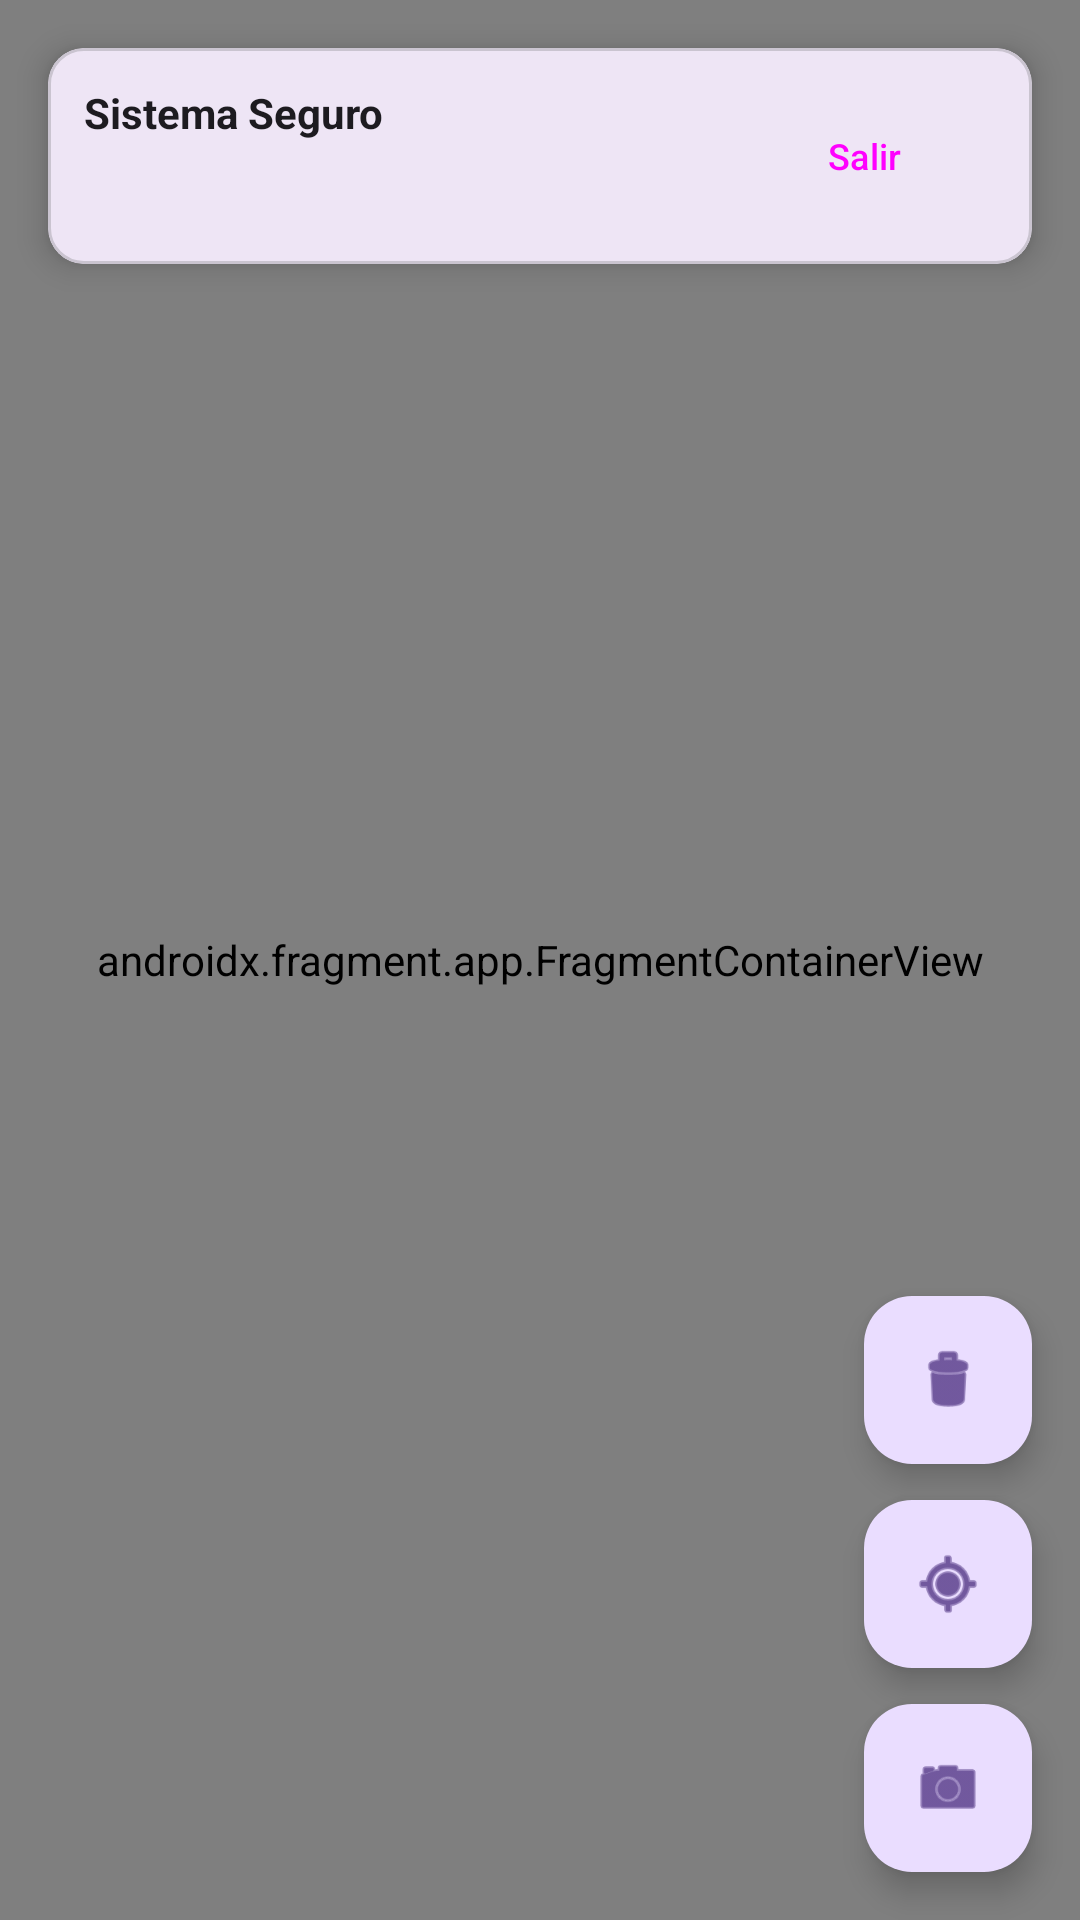

Icons on this 1080px x 1920px Android screen, each with its box as [left=x1, top=y1, right=x2, bottom=y2]:
Limpiar marcadores: [left=864, top=1296, right=1032, bottom=1464]
Mi ubicación: [left=864, top=1500, right=1032, bottom=1668]
Tomar foto: [left=864, top=1704, right=1032, bottom=1872]
